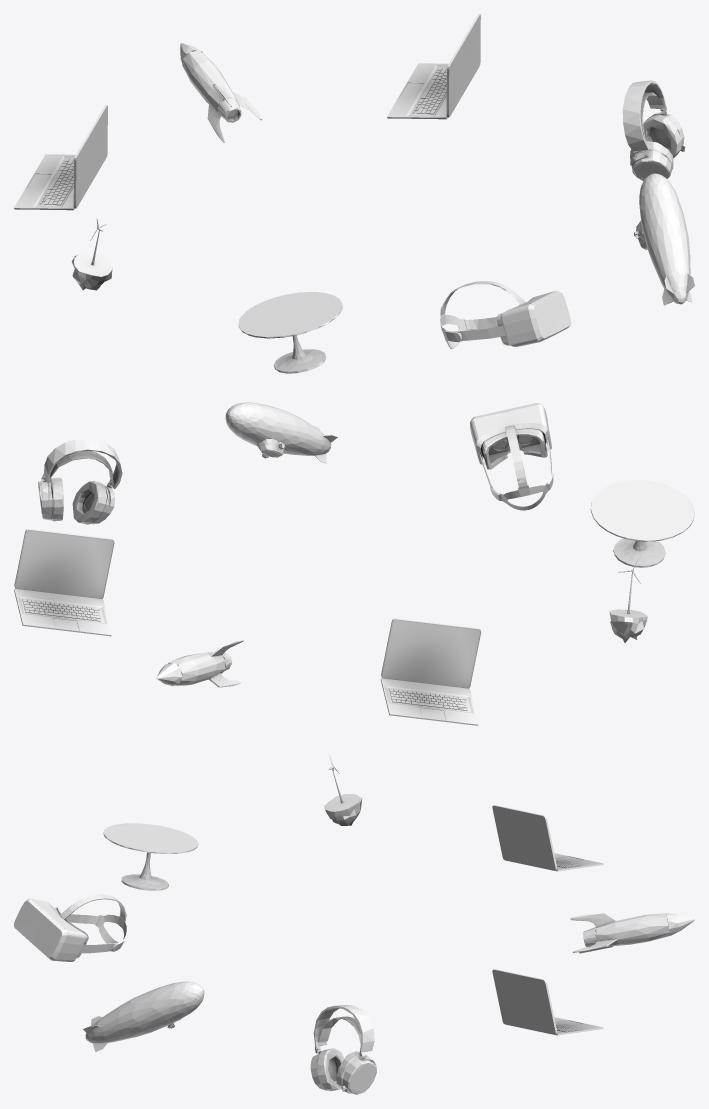
The model's file is models.glb.
The picture shows the model from 3 angles, top to bottom: view 1: azimuth 30°, elevation 25°; view 2: azimuth 150°, elevation 25°; view 3: azimuth 270°, elevation 25°; orthographic projection. The views are drawn at different scales.
Parts seen in each view (by area): view 1: Zeppelin, Table, VRHeadset, Notebook, Notebook2, Headphones, Rocket, Roundcube; view 2: Notebook, Notebook2, Table, VRHeadset, Headphones, Zeppelin, Rocket, Roundcube; view 3: VRHeadset, Zeppelin, Headphones, Notebook, Notebook2, Table, Rocket, Roundcube.
Boxes of the visible parts, <box> form: Zeppelin: <box>633,173,694,305</box>; Table: <box>238,292,342,373</box>; VRHeadset: <box>440,281,571,348</box>; Notebook: <box>387,14,480,119</box>; Notebook2: <box>14,105,107,210</box>; Headphones: <box>622,80,685,181</box>; Rocket: <box>180,43,262,142</box>; Roundcube: <box>71,219,112,290</box>; Notebook: <box>14,528,114,636</box>; Notebook2: <box>380,618,481,725</box>; Table: <box>590,480,694,567</box>; VRHeadset: <box>470,403,553,510</box>; Headphones: <box>38,439,122,524</box>; Zeppelin: <box>225,402,337,463</box>; Rocket: <box>156,639,243,687</box>; Roundcube: <box>609,560,647,642</box>; VRHeadset: <box>14,894,127,961</box>; Zeppelin: <box>83,981,204,1051</box>; Headphones: <box>310,1005,376,1094</box>; Notebook: <box>492,969,603,1035</box>; Notebook2: <box>492,805,603,871</box>; Table: <box>103,823,198,890</box>; Rocket: <box>570,913,694,953</box>; Roundcube: <box>324,754,362,825</box>.
Size of the model in its own units: 32.92 by 5.31 by 35.14.
Materials: 8 (8 with a texture image).
